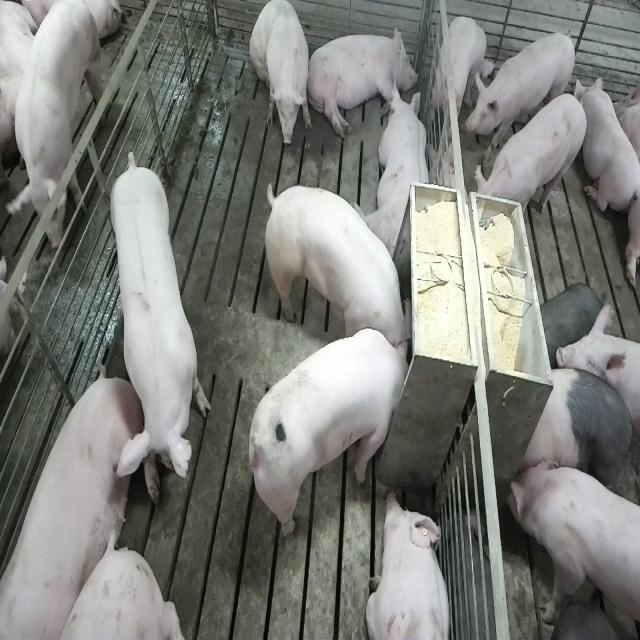Feeding: (251, 326, 419, 540), (260, 178, 410, 358)
Lateral_lying: (306, 22, 418, 142)
Sitting: (250, 0, 312, 148)
Standing: (106, 150, 210, 508), (0, 0, 106, 240), (504, 456, 638, 640), (514, 366, 638, 511), (474, 91, 588, 228), (466, 28, 579, 156), (430, 14, 488, 136)
Sternal_lying: (364, 490, 453, 640), (365, 85, 432, 262), (576, 72, 636, 215)
